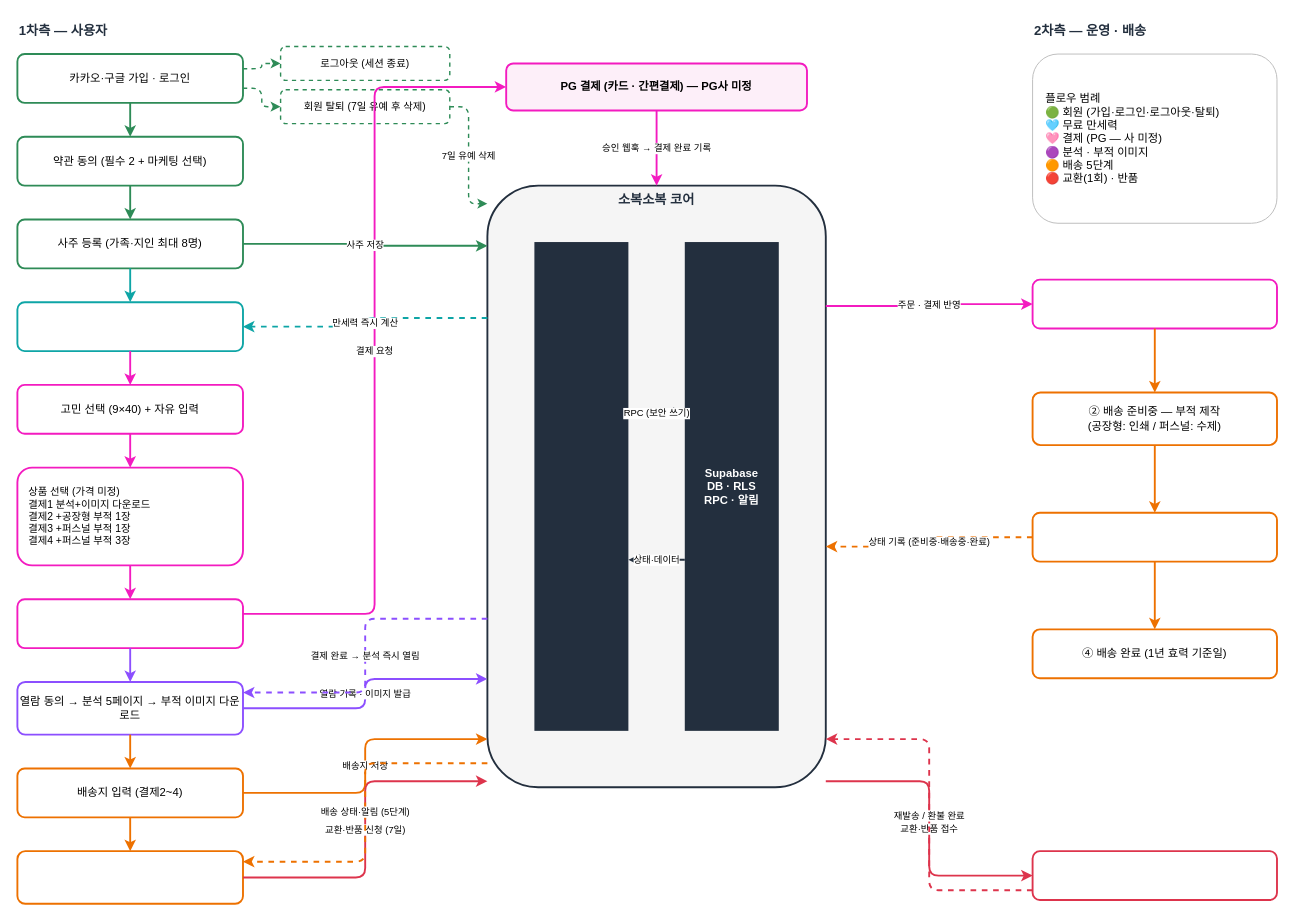
This 1293x920 diagram has some shape labels left out. The shapes that lost their labels are listed below. From the top down, each one's centre as x and y in pixels, then its label:
(1154,303): ① 결제 완료 (PG 승인 자동 반영)
(129,326): 만세력 · 일간 5줄 무료 열람
(581,486): 앱 서버 Vercel (Next.js)
(1154,536): ③ 배송중 — 송장 입력·발송
(129,623): PG 결제창 → 승인 즉시 결제 완료
(129,877): 실물 수령 → 7일 내 교환 신청(1회) · 반품 신청
(1154,875): ⑤ 교환 재발송 / 반품 회수 → 환불
